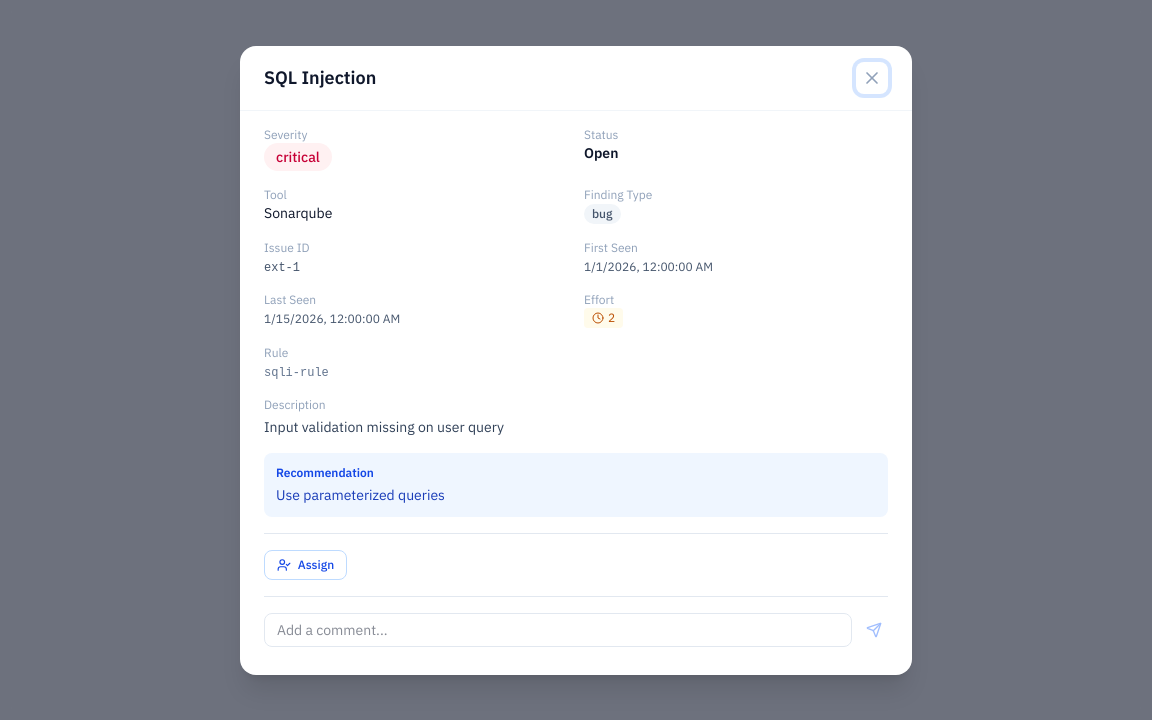
IssueDetailModal › shows assign select on button click
The image size is (1152, 720).
Click the button "Assign": x=306, y=564 [264,550,347,580]
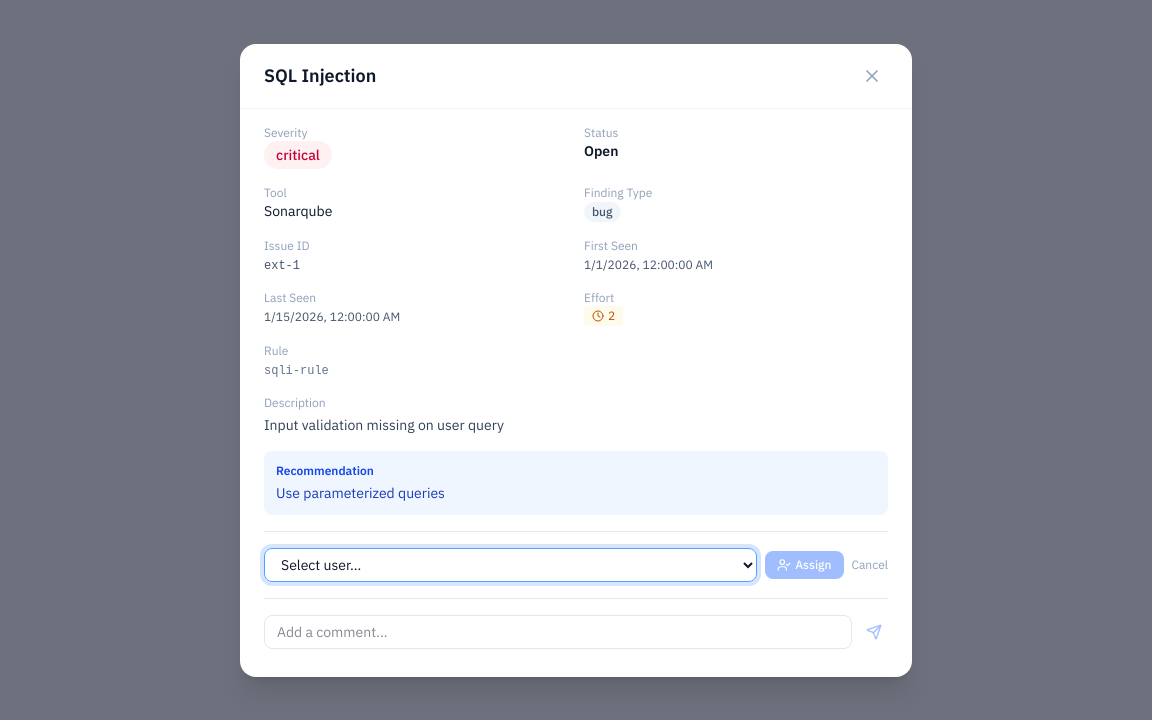
expect the dropdown is shown: met, box [264,548,757,582]
